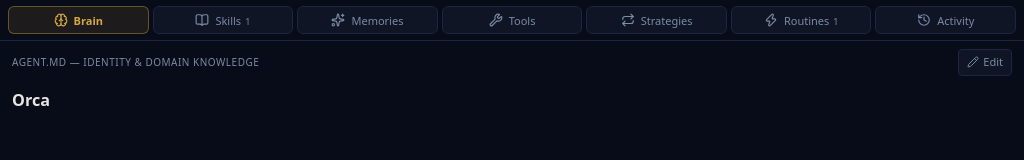
Test case: the section strip › still opens every section it names
Click the tab "Routines 1": (801, 20) [731,6,872,34]
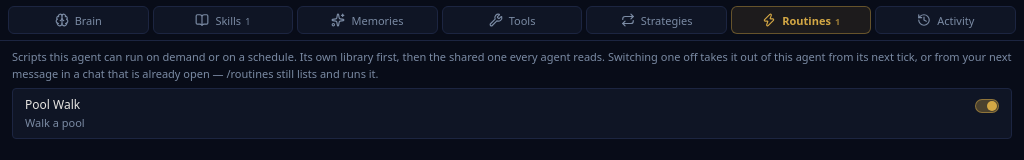
Check: the text "Pool Walk" is shown, box [25,97,80,113]
